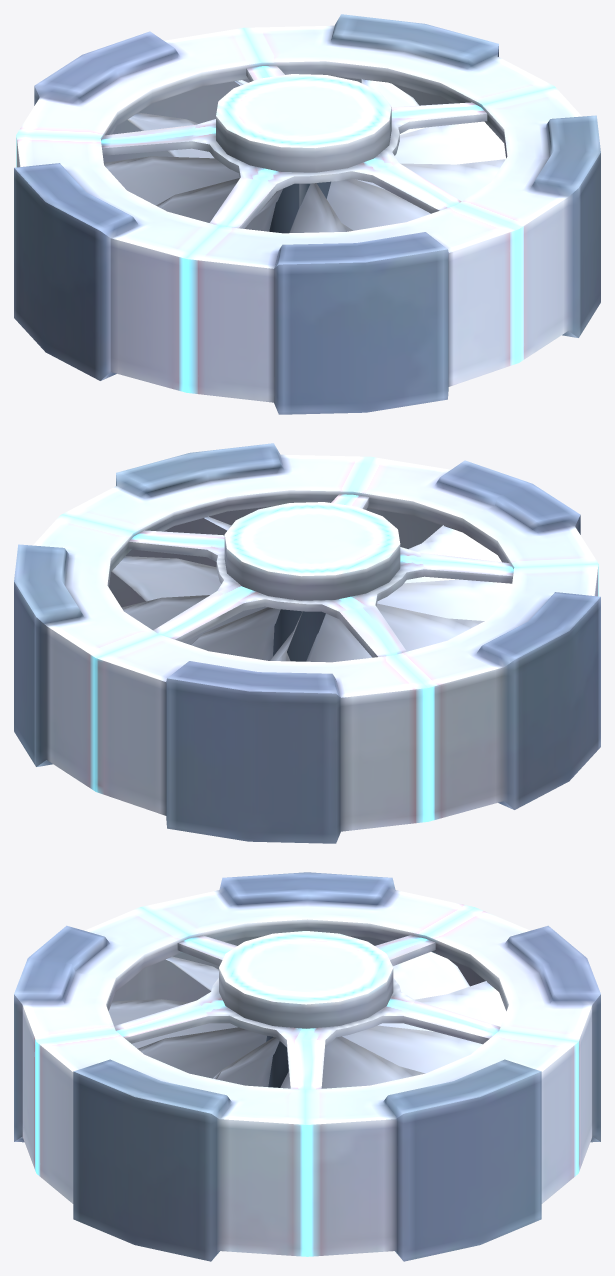
Rendered from obj_cooler.gltf.
3 renders of one model, top to bottom at view 1: azimuth 30°, elevation 25°; view 2: azimuth 150°, elevation 25°; view 3: azimuth 270°, elevation 25°, orthographic.
Visible parts, largest first — view 1: obj_cooler; view 2: obj_cooler; view 3: obj_cooler.
Boxes of the visible parts, x1,y1,x2,y2 form: obj_cooler: (14,14,600,414); obj_cooler: (14,443,600,843); obj_cooler: (14,872,600,1261).
Size of what is drawn, in the model's own units: 0.2225 by 0.0868 by 0.2255.
1 material, 1 textured.
